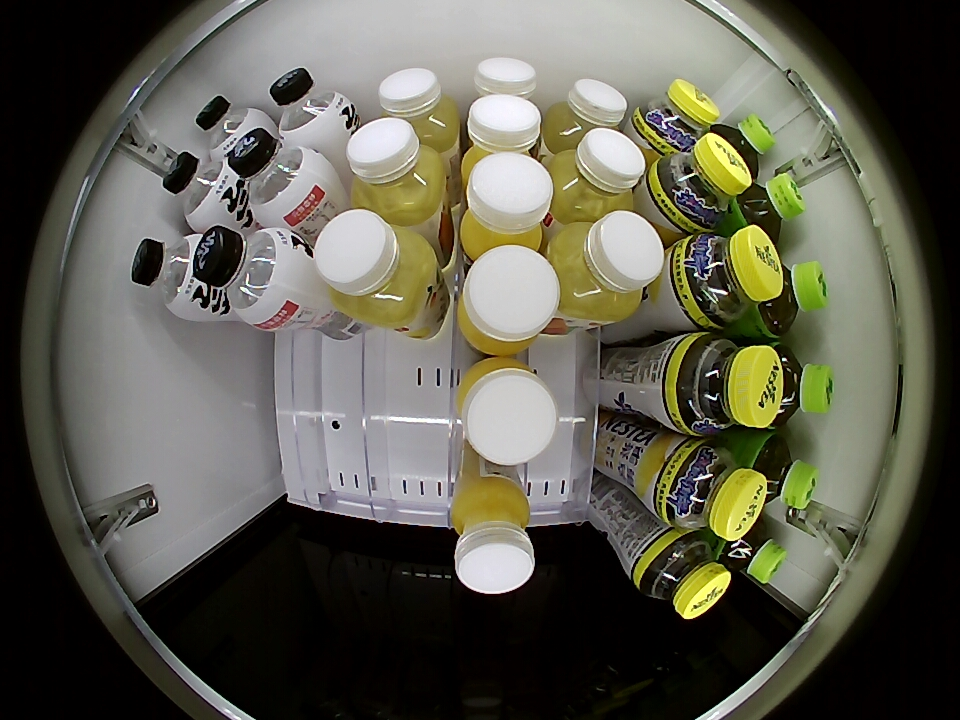chacui: (663, 333, 783, 435), (670, 227, 783, 332), (655, 438, 766, 540), (647, 132, 751, 230), (632, 528, 730, 620), (636, 80, 719, 155)
chapai2: (315, 208, 436, 327), (548, 211, 663, 325), (347, 117, 446, 223), (548, 128, 644, 222), (378, 68, 460, 150), (544, 79, 629, 152)
nfc: (457, 244, 561, 354), (455, 358, 558, 466), (459, 151, 554, 261), (449, 480, 536, 593), (462, 95, 543, 172), (472, 58, 538, 103)
yitengyuan: (762, 343, 833, 429), (745, 433, 818, 512), (756, 258, 828, 337), (715, 518, 787, 585), (733, 172, 805, 239), (718, 113, 775, 174)
yuanqishui: (193, 225, 312, 329), (228, 128, 332, 227), (131, 233, 216, 318), (269, 68, 356, 147), (162, 151, 244, 230), (195, 95, 267, 161)
